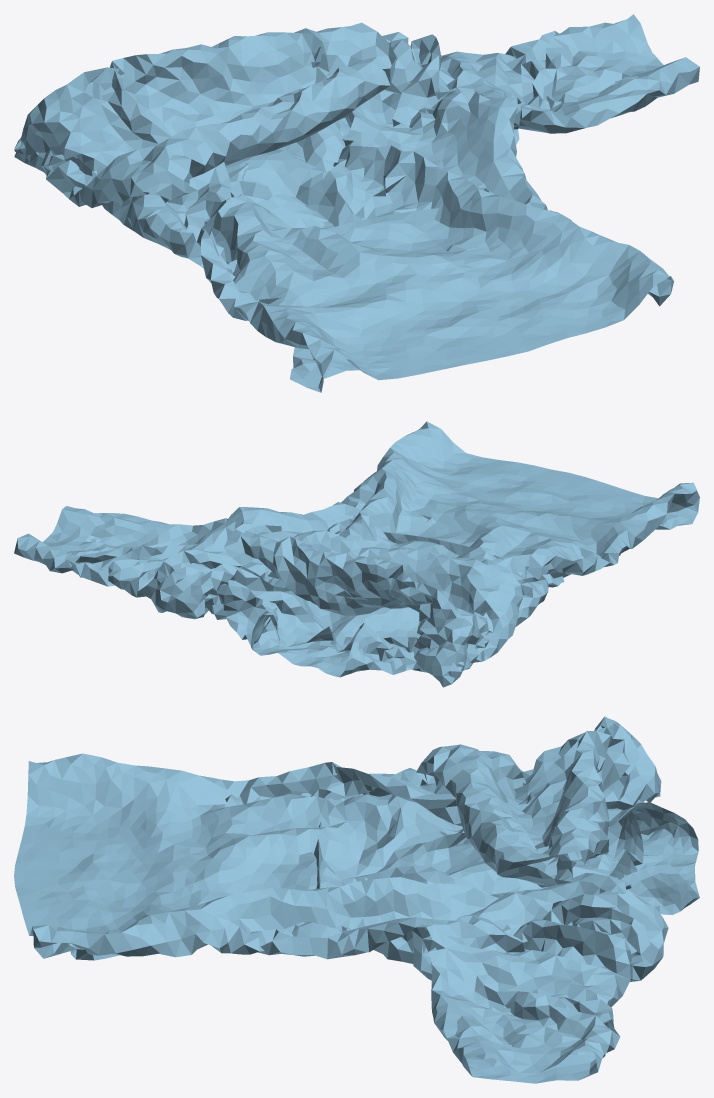
Rendered from frame_19.glb.
3 views of the same model, one above another, from view 1: azimuth 30°, elevation 25°; view 2: azimuth 150°, elevation 25°; view 3: azimuth 270°, elevation 25° (orthographic). The views are drawn at different scales.
Visible parts, largest first — view 1: frame_19.obj; view 2: frame_19.obj; view 3: frame_19.obj.
Part boxes in pixels (x1,y1,x2,y2): frame_19.obj: (14,14,699,392); frame_19.obj: (14,421,699,687); frame_19.obj: (14,716,699,1083).
Bounding box in the file's own units: 1.38 × 0.2564 × 1.35.
